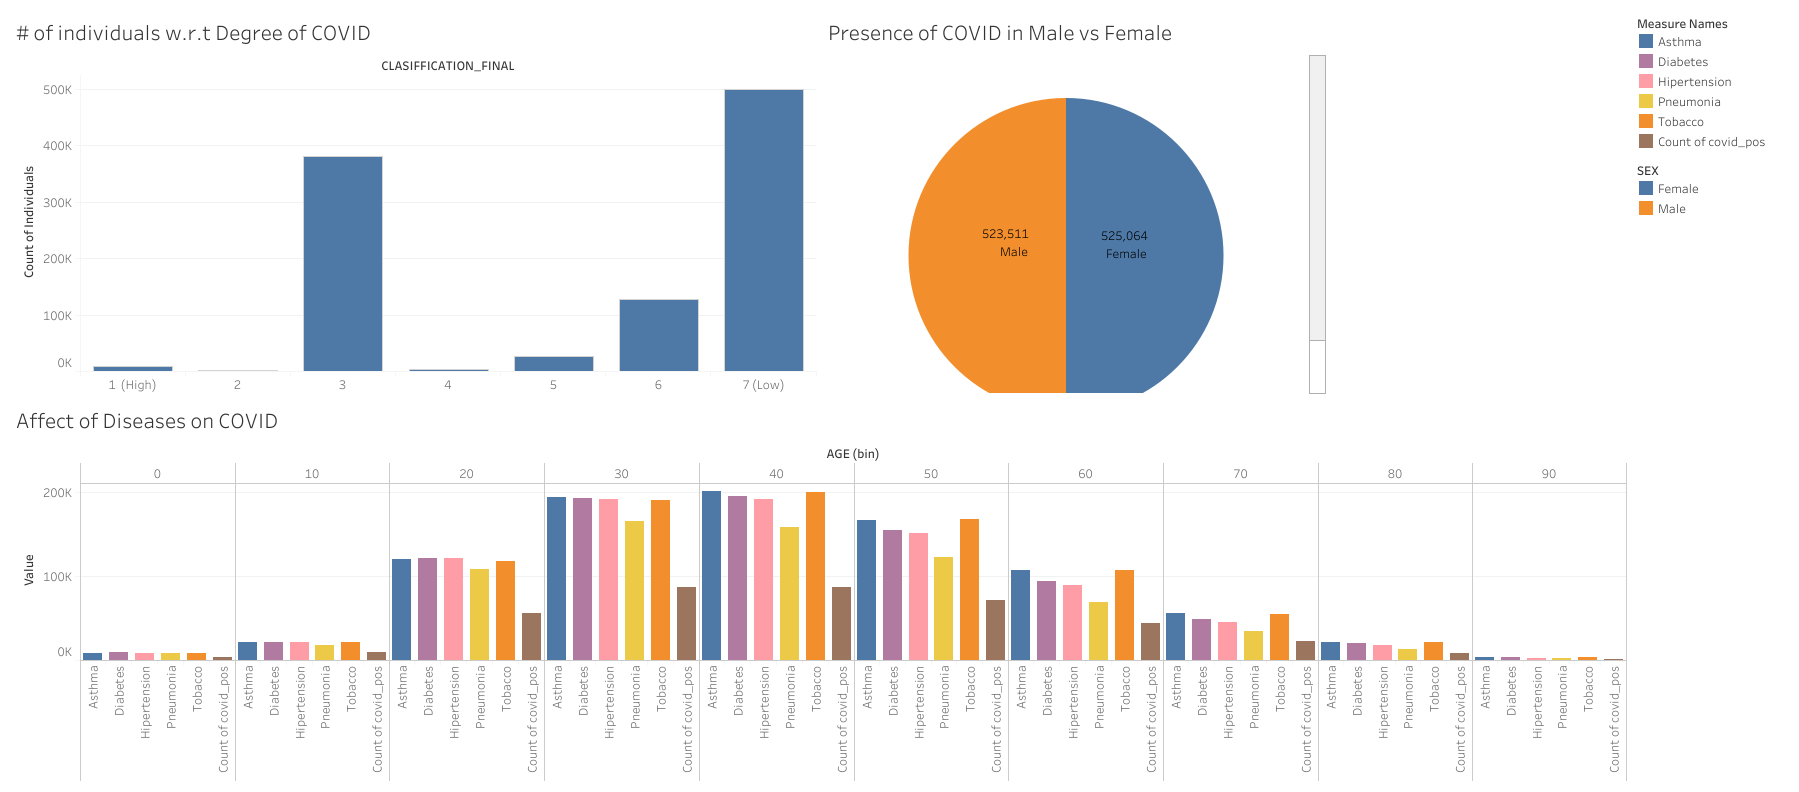

This screenshot's page, from the dashboard's own definition file:
{"tool":"tableau","page":{"name":"Dashboard 1","canvas":[1000,1000],"units":"permille","ordinal":0},"visuals":[{"type":"worksheet","title":"Sheet 1","mark":"Automatic","rows":["CLASIFFICATION_FINAL"],"cols":["CLASIFFICATION_FINAL"],"box":[4.7,9.3,448.5,490.7]},{"type":"worksheet","title":"Sheet 2","mark":"Pie","box":[453.2,9.3,448.5,490.7]},{"type":"legend","title":"Sheet 3","param":"[federated.09n0rur1gzs29i1ca6p9t0wgw612].[:Measure Names]","box":[901.7,9.3,93.6,169]},{"type":"legend","title":"Sheet 2","param":"[federated.09n0rur1gzs29i1ca6p9t0wgw612].[none:SEX:ok]","box":[901.7,178.2,93.6,76.4]},{"type":"worksheet","title":"Sheet 3","mark":"Automatic","cols":["AGE (bin)"],"box":[4.7,500,897,490.7]}]}

Visuals, with their boxes on the dashboard's canvas, which has no fixed pixel size, in thousandths of its width and height (x1, y1, x2, y2). These are canvas units, not pixel positions in the 1799x792 screenshot, which may show the page scaled, cropped or inside an application window:
"Sheet 1" worksheet: <box>5,9,453,500</box>
"Sheet 2" worksheet (Pie marks): <box>453,9,902,500</box>
"Sheet 3" legend: <box>902,9,995,178</box>
"Sheet 2" legend: <box>902,178,995,255</box>
"Sheet 3" worksheet: <box>5,500,902,991</box>
